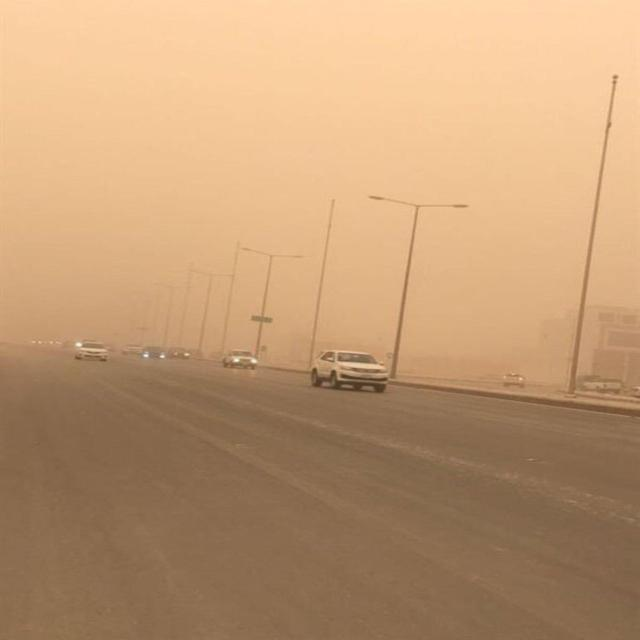Car: (312, 344, 400, 396), (580, 370, 627, 398), (223, 340, 259, 371), (76, 333, 111, 364), (498, 365, 532, 390), (168, 341, 192, 363), (142, 342, 166, 363), (123, 337, 141, 356)
